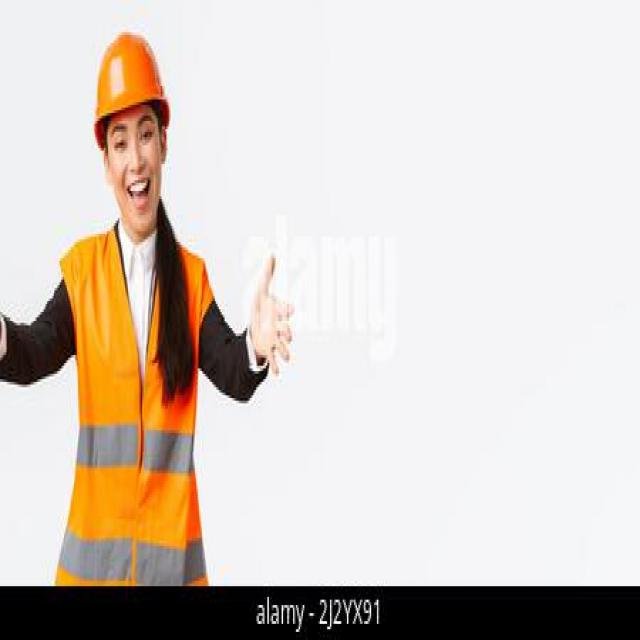Reflective-Jacket: (47, 228, 220, 576)
Safety-Helmet: (91, 27, 172, 132)
